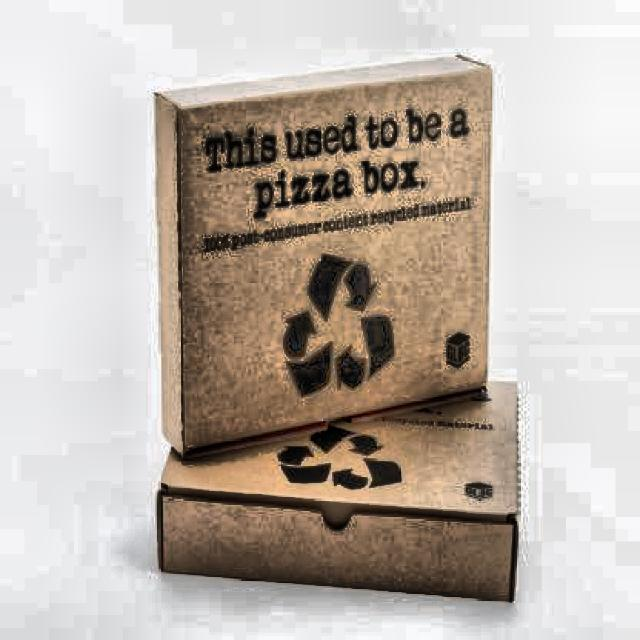Cardbox: (125, 45, 496, 441), (145, 327, 549, 620)
